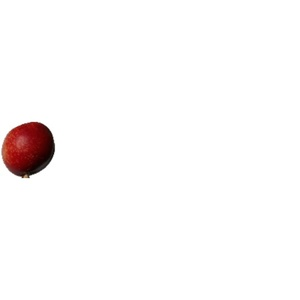nectarina: (2, 122, 55, 179)
